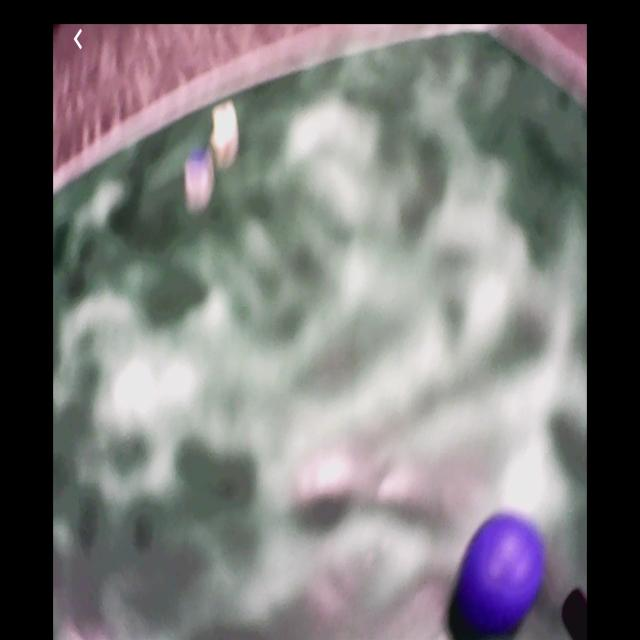ball: (466, 515, 542, 626)
